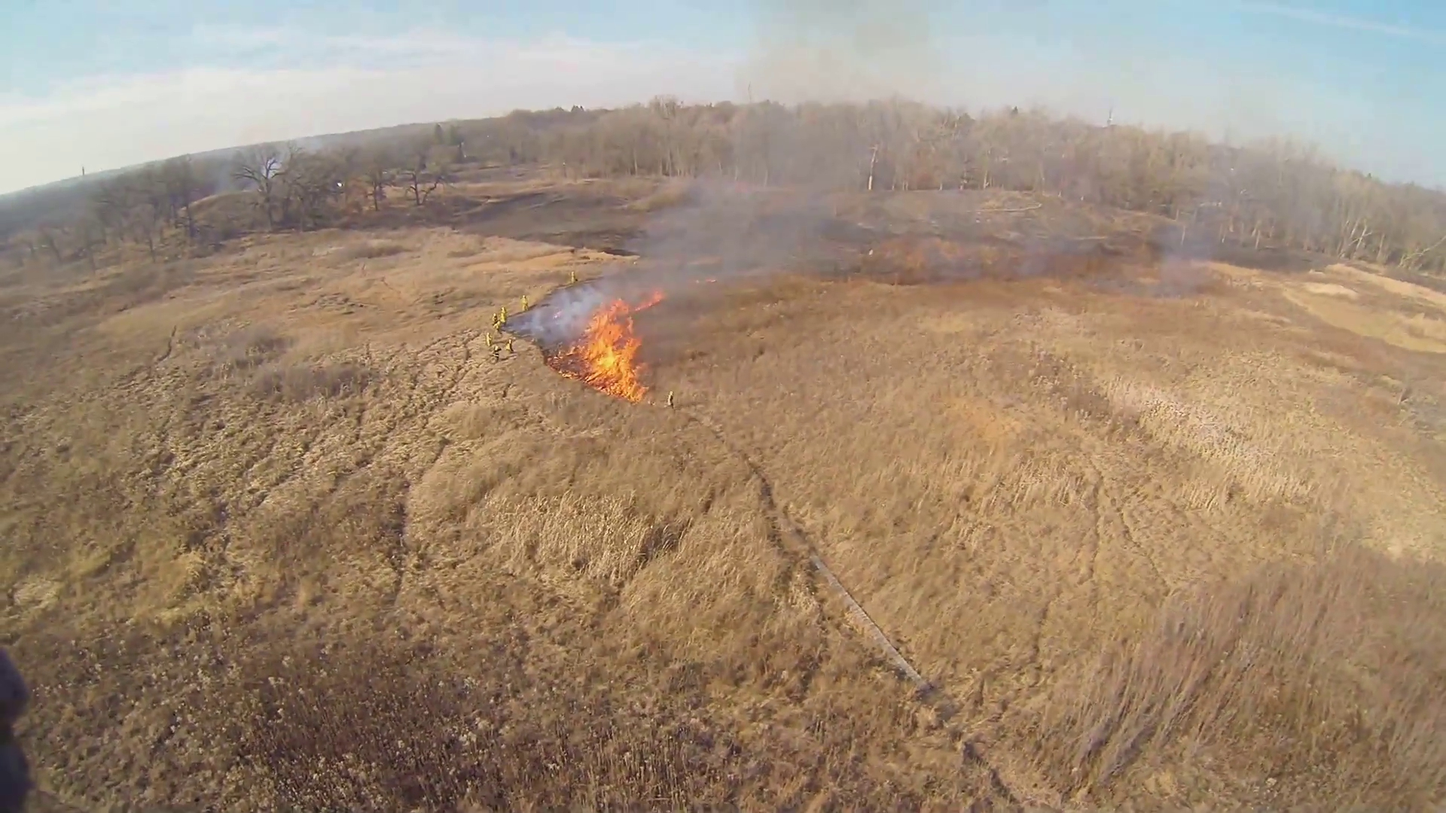forest_fire: (548, 291, 663, 401)
